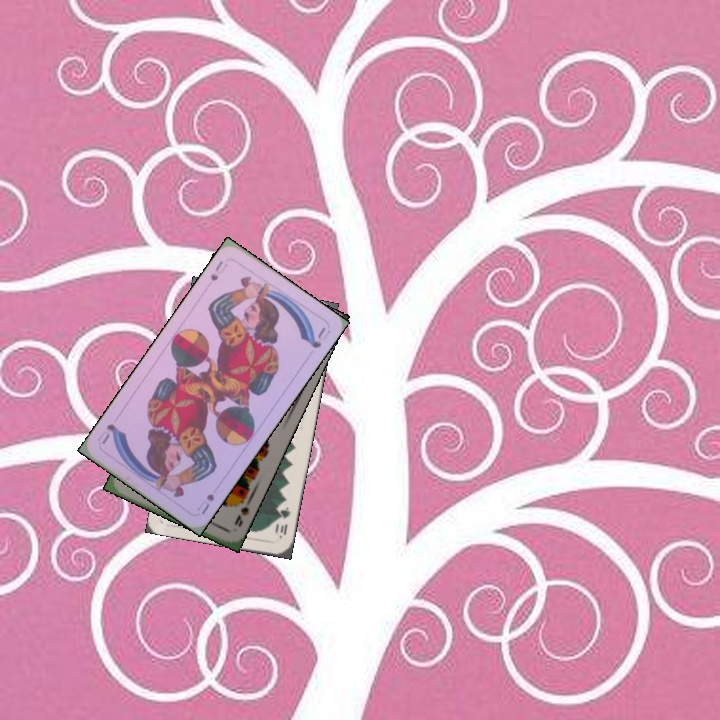G10: (273, 503, 293, 541)
S9: (230, 493, 254, 529)
SU: (193, 489, 217, 517), (206, 257, 230, 284)
